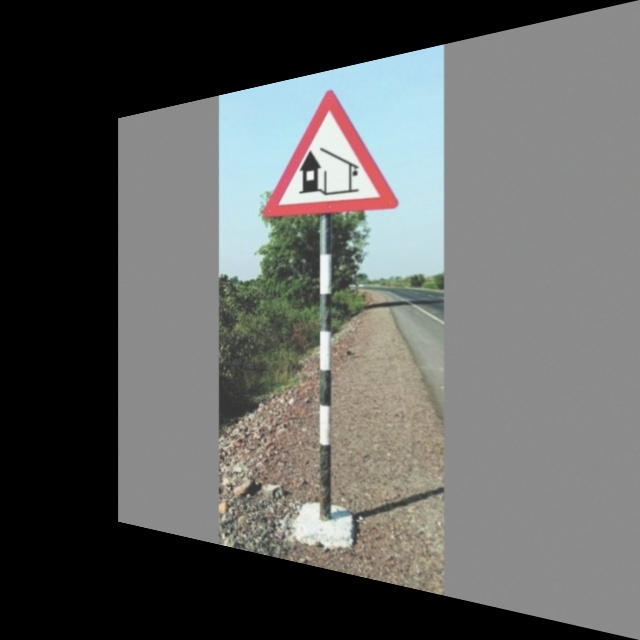Barrier_Ahead: (266, 78, 396, 218)
